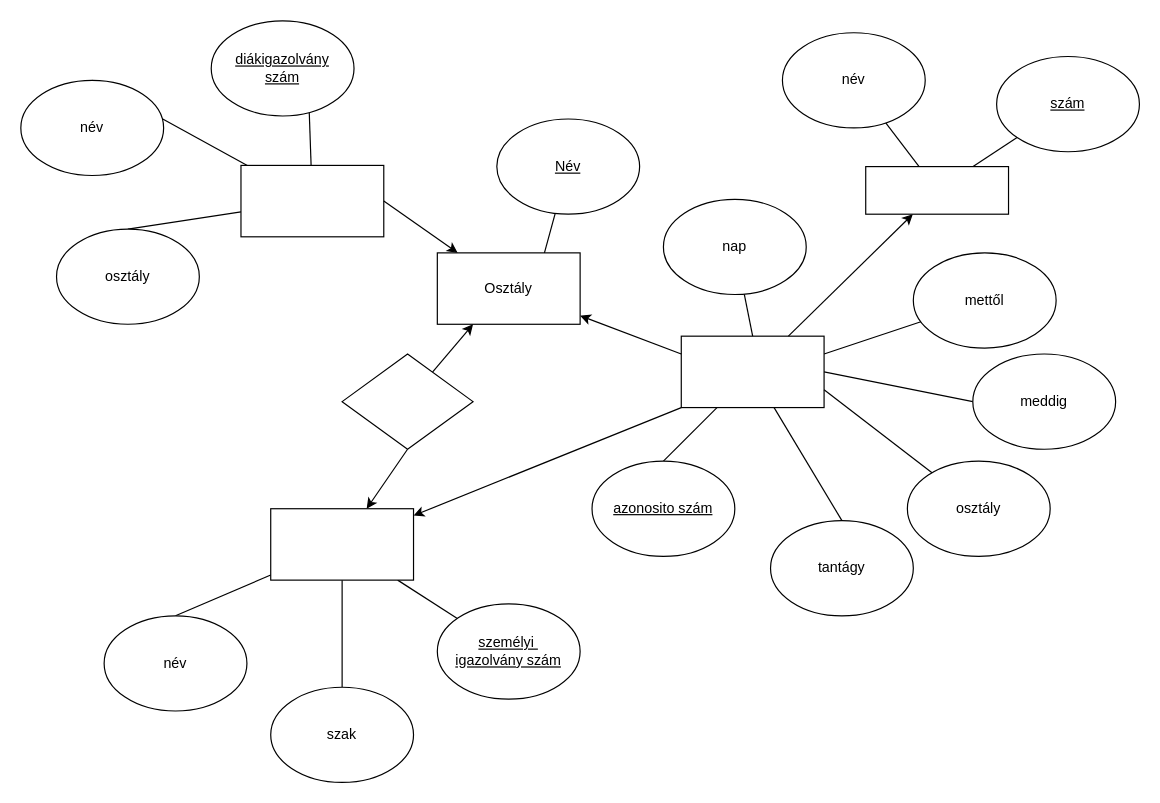
The diagram is 1160 pixels wide and 803 high, and some of its shapes have lost their labels. The centre of each missing label's shape, as x and y in pixels:
"Diák" goes at (312,200).
"Osztályfőnök" goes at (407,401).
"Tanár" goes at (342,544).
"Terem" goes at (937,189).
"Óra" goes at (752,371).
